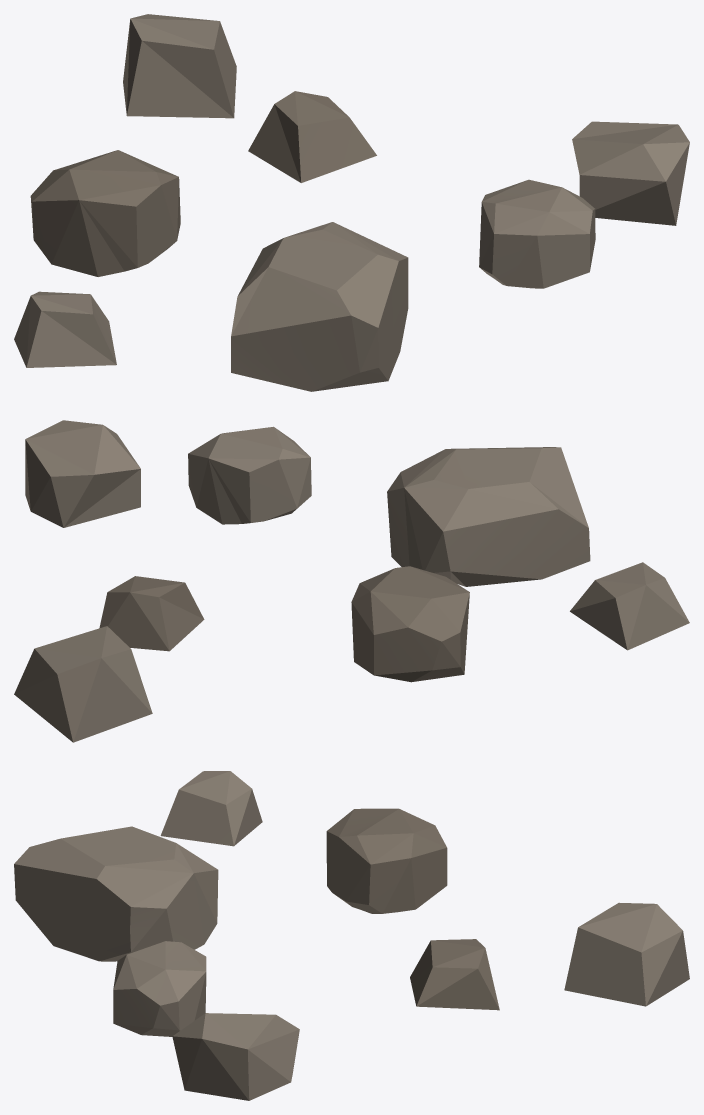
The model's file is SM_Prop_Rubble_07.obj.
3 views of the same model, one above another, from view 1: azimuth 30°, elevation 25°; view 2: azimuth 150°, elevation 25°; view 3: azimuth 270°, elevation 25° (orthographic). The views are drawn at different scales.
Parts seen in each view (by area): view 1: SM_Prop_Rubble_07_0; view 2: SM_Prop_Rubble_07_0; view 3: SM_Prop_Rubble_07_0.
Part boxes in pixels (x1,y1,x2,y2): SM_Prop_Rubble_07_0: (14,14,689,391); SM_Prop_Rubble_07_0: (14,420,689,742); SM_Prop_Rubble_07_0: (14,771,689,1100).
Size of the model in its own units: 1.34 by 0.2163 by 1.31.
1 material, 1 textured.
